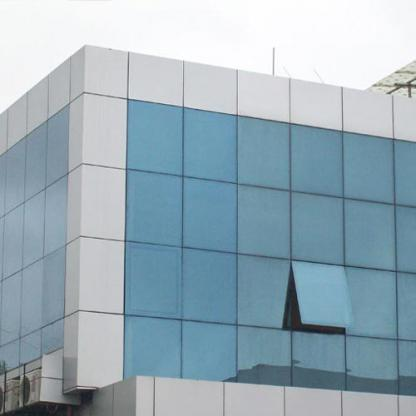window: (290, 260, 358, 333), (125, 167, 184, 249), (125, 241, 183, 322), (126, 100, 186, 176), (183, 246, 238, 327), (238, 116, 291, 193), (237, 184, 291, 259), (290, 123, 343, 199), (185, 178, 237, 255), (344, 266, 398, 340), (185, 108, 236, 185), (290, 192, 343, 266), (239, 255, 291, 330), (344, 198, 396, 271), (344, 133, 394, 206), (125, 314, 182, 377), (183, 320, 238, 382), (238, 325, 291, 387), (291, 332, 346, 390), (344, 336, 398, 394), (43, 245, 68, 328), (46, 172, 70, 257), (21, 189, 46, 270), (20, 258, 45, 338), (24, 120, 48, 202), (46, 105, 69, 190), (2, 137, 24, 219), (2, 202, 24, 280), (0, 270, 22, 348), (394, 138, 416, 208), (395, 206, 415, 274), (398, 272, 415, 343), (40, 316, 66, 360), (398, 339, 415, 396), (1, 338, 22, 374), (22, 328, 42, 364)
